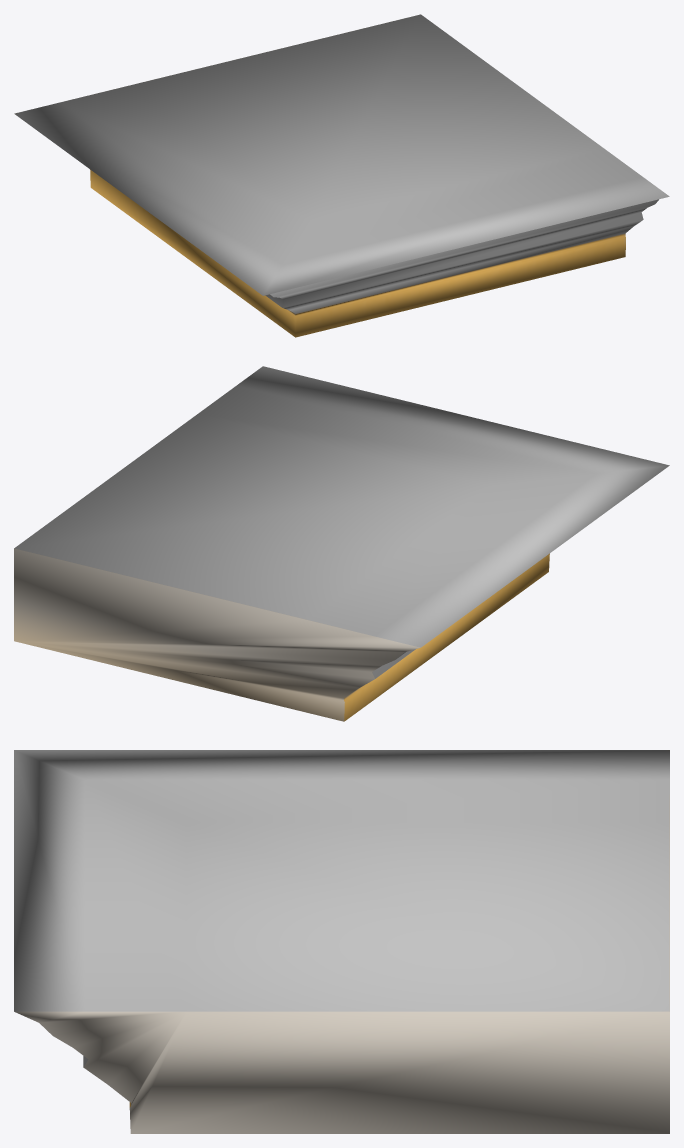
Rendered from FrechalSuperiorQuina.fbx.
3 renders of one model, top to bottom at view 1: azimuth 30°, elevation 25°; view 2: azimuth 150°, elevation 25°; view 3: azimuth 270°, elevation 25°, orthographic. The views are drawn at different scales.
Visible parts, largest first — view 1: FrechalSuperiorQuinaLow; view 2: FrechalSuperiorQuinaLow; view 3: FrechalSuperiorQuinaLow.
Part boxes in pixels (x1,y1,x2,y2): FrechalSuperiorQuinaLow: [14, 14, 669, 337]; FrechalSuperiorQuinaLow: [14, 366, 669, 721]; FrechalSuperiorQuinaLow: [14, 750, 669, 1133].
Bounding box in the file's own units: 91.81 × 20 × 97.31.
